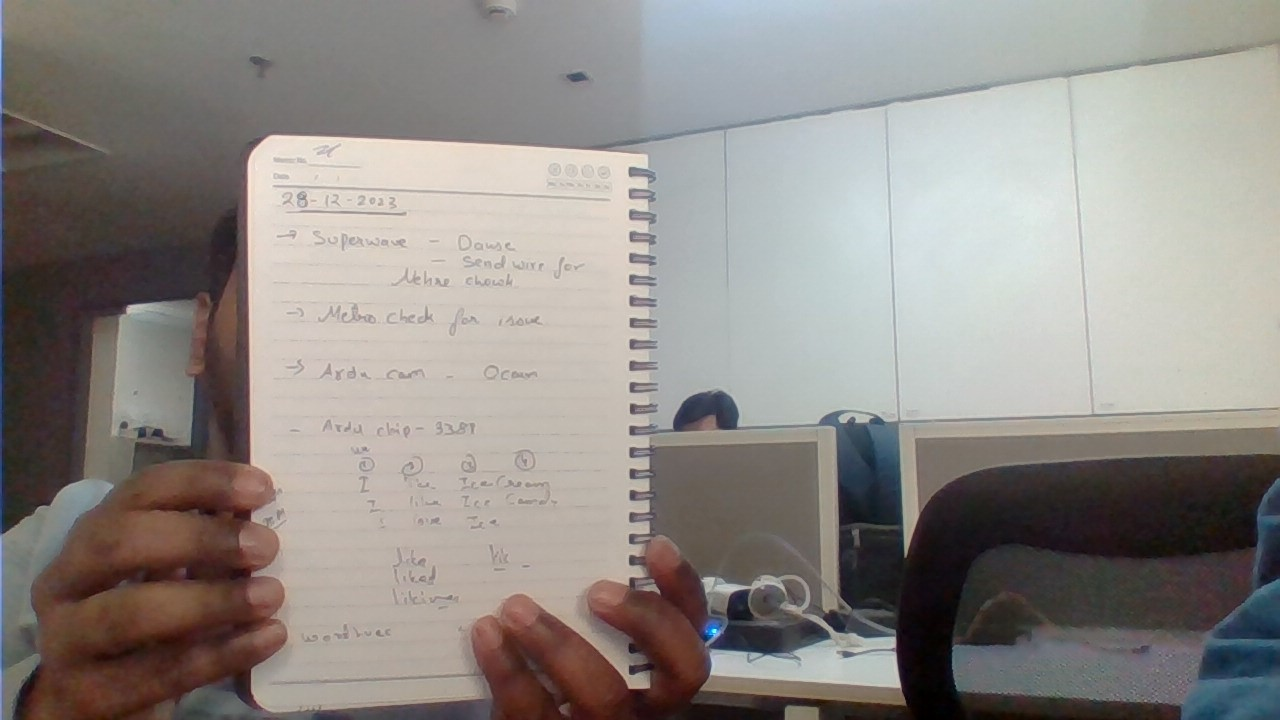notebook: (247, 128, 669, 703)
